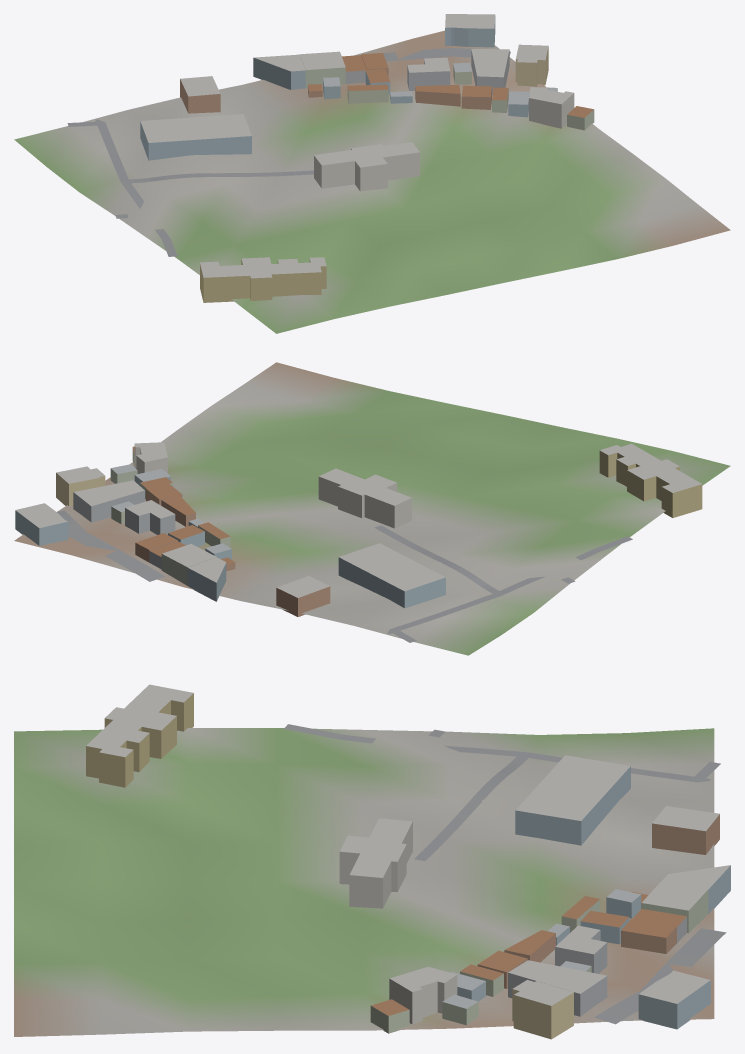
3 renders of one model, top to bottom at view 1: azimuth 30°, elevation 25°; view 2: azimuth 150°, elevation 25°; view 3: azimuth 270°, elevation 25°, orthographic. The views are drawn at different scales.
Visible parts, largest first — view 1: Lo; view 2: Lo; view 3: Lo.
Boxes of the visible parts, x1=… form: Lo: x1=14, y1=14, x2=730, y2=333; Lo: x1=14, y1=362, x2=730, y2=655; Lo: x1=14, y1=684, x2=730, y2=1039.
Bounding box in the file's own units: 279 × 18.25 × 262.
